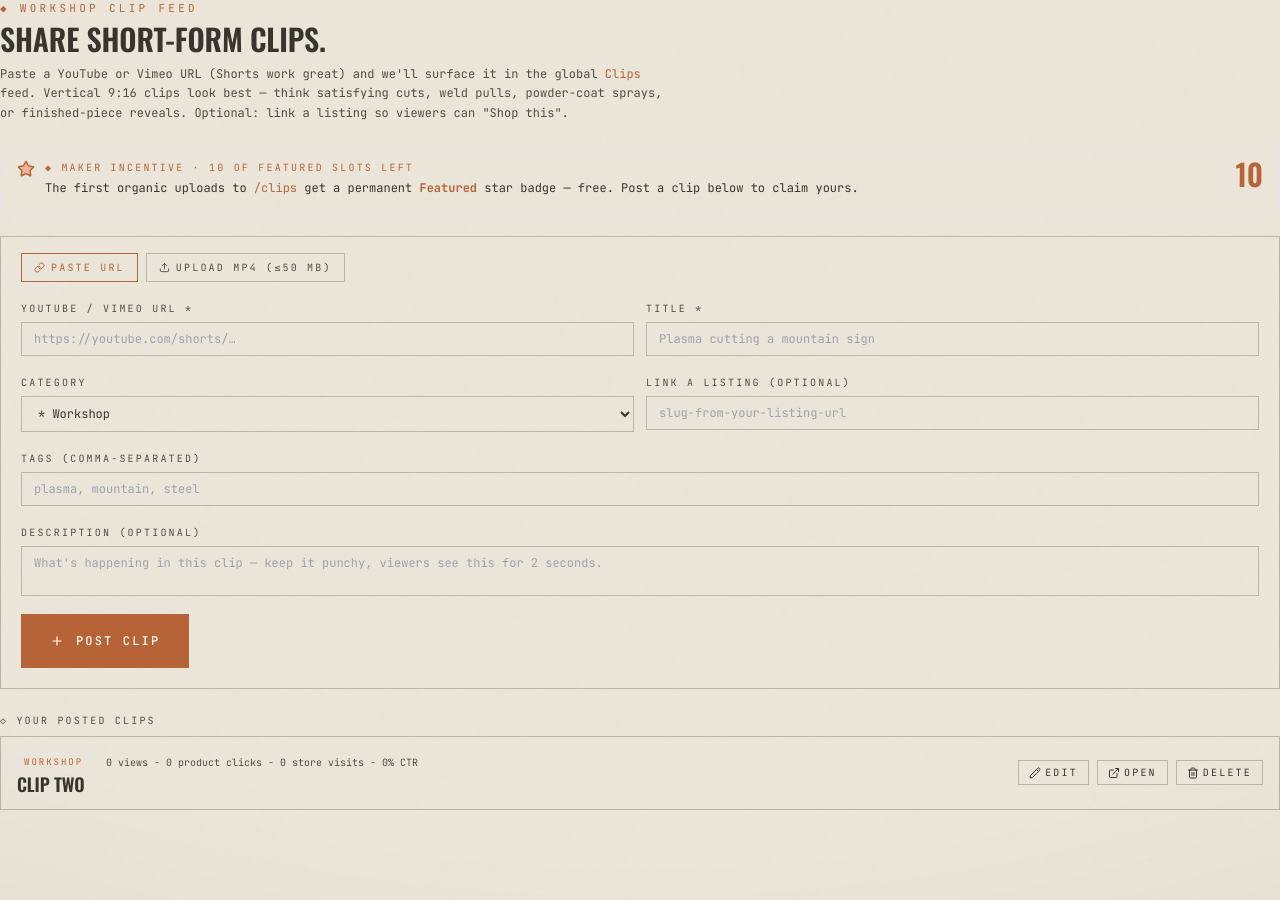
Test case: product selector searches eligible products and adds a selected product
This screenshot has width=1280, height=900.
Later steps or results of the test are not shown.
Click the button with test id "clips-my-edit-clip-2": coordinates (1054, 772) [1018,760,1089,785]
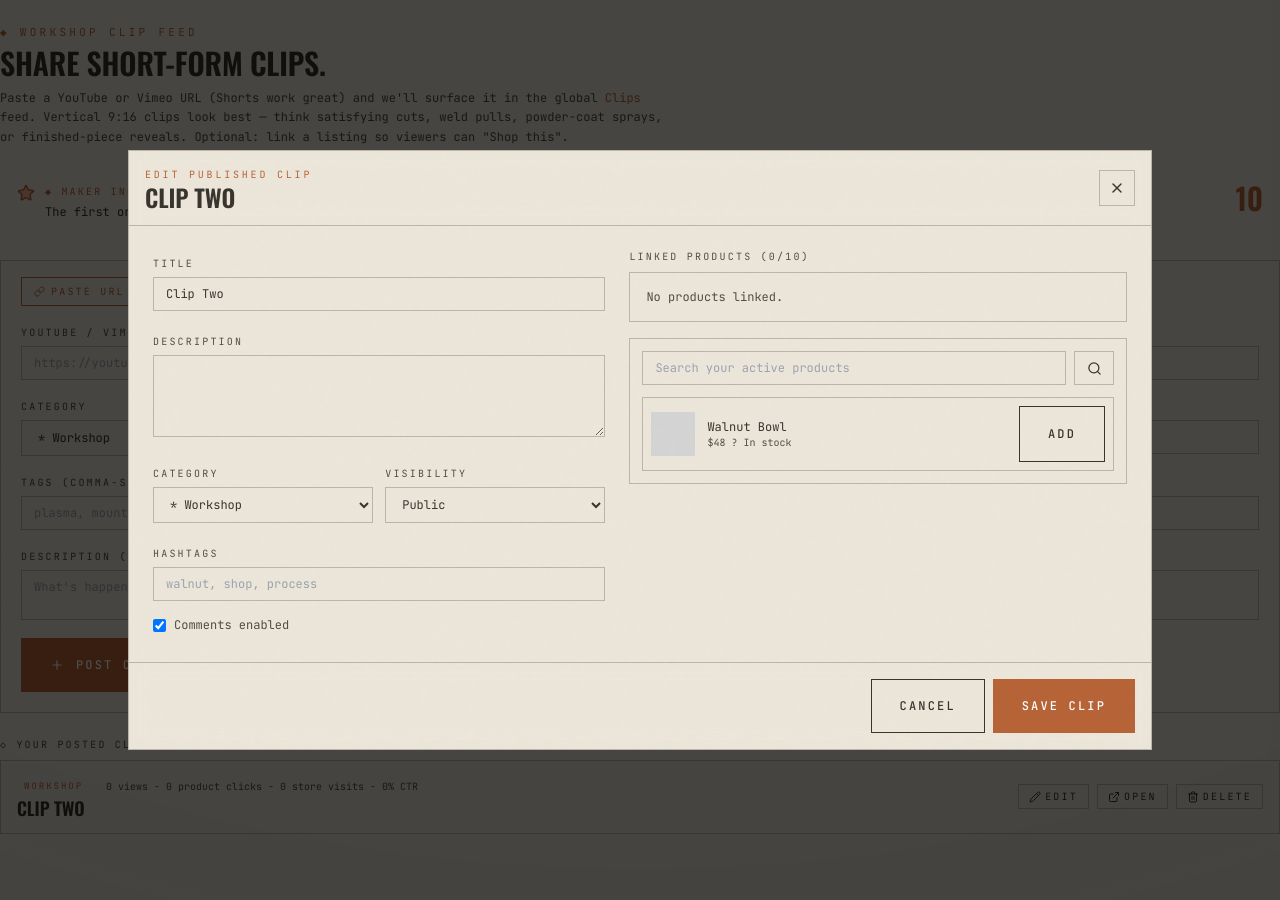
Check: the button with test id "clip-product-add-walnut-bowl" is shown, box [1019,406,1105,462]
